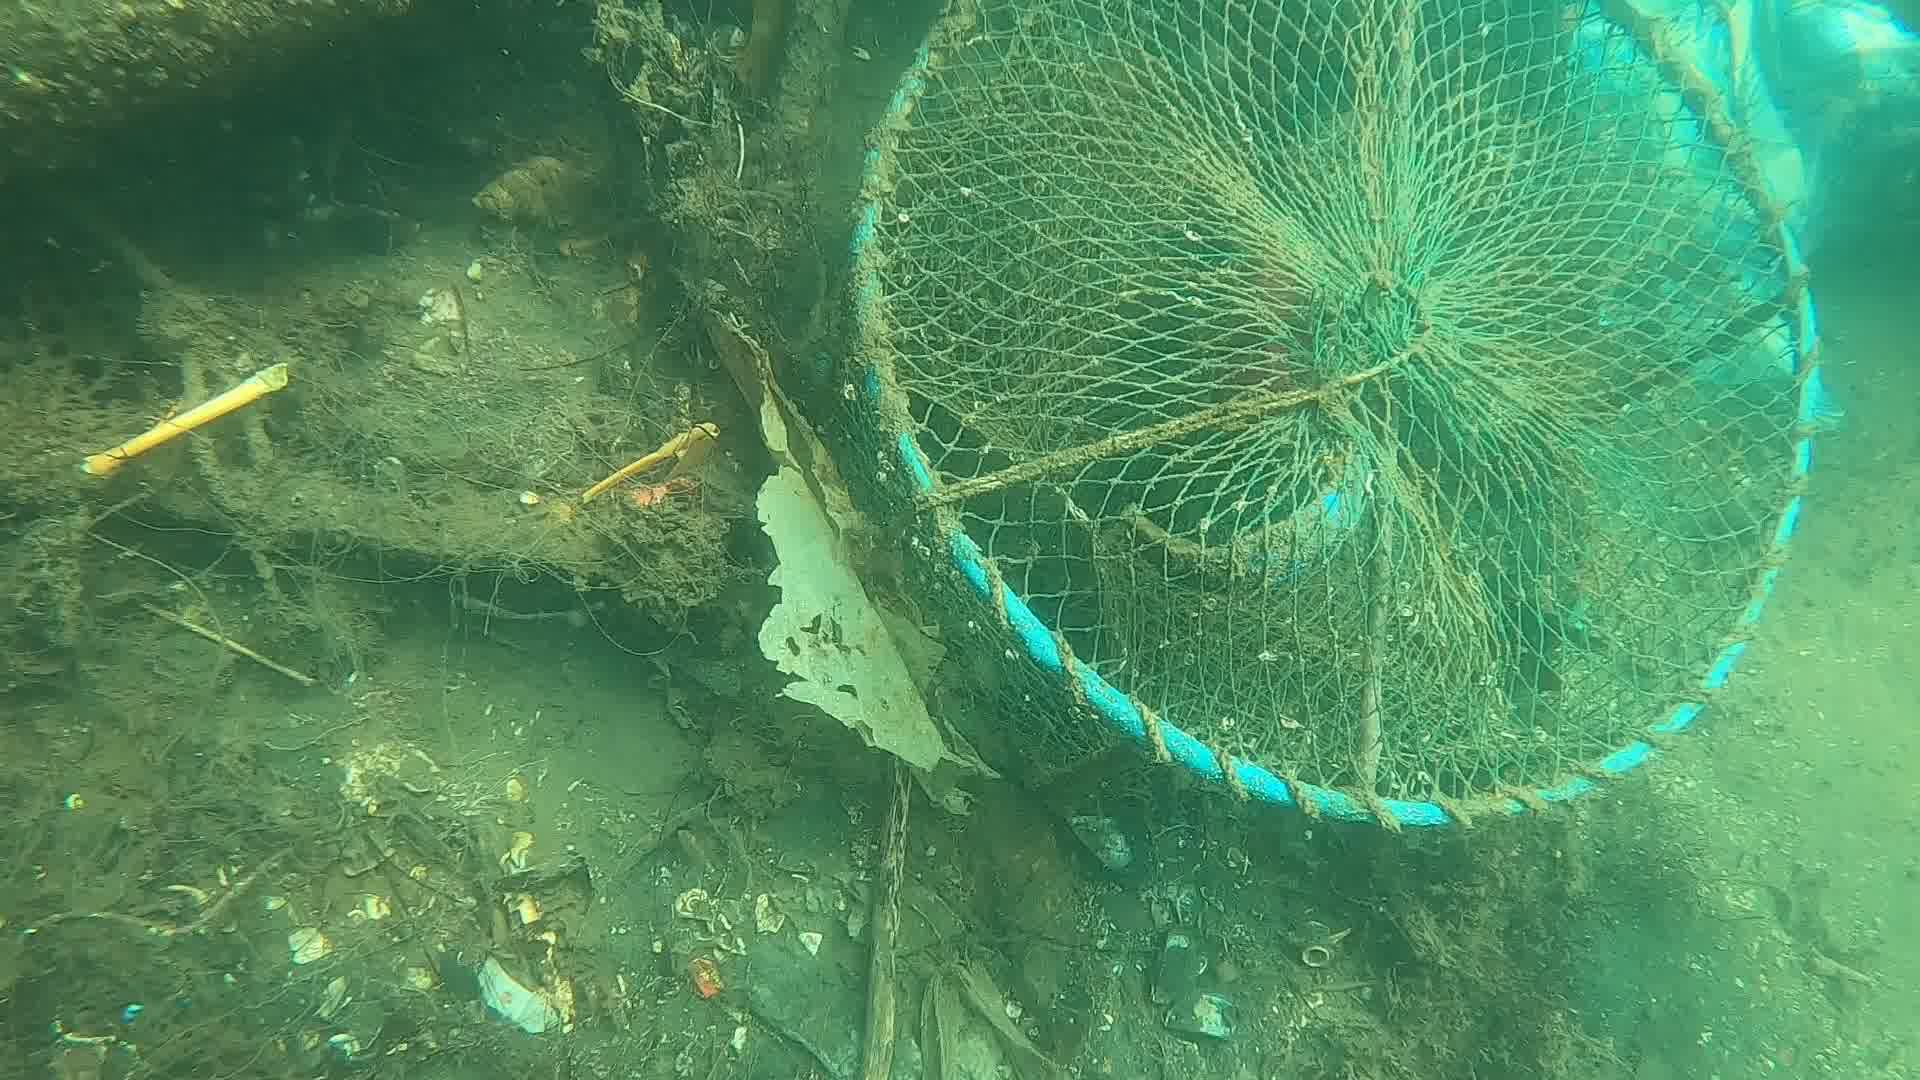circular fish trap: (840, 0, 1829, 829)
